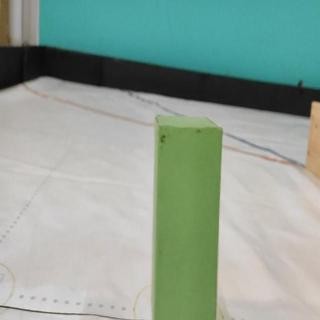greenbox: (152, 113, 225, 320)
